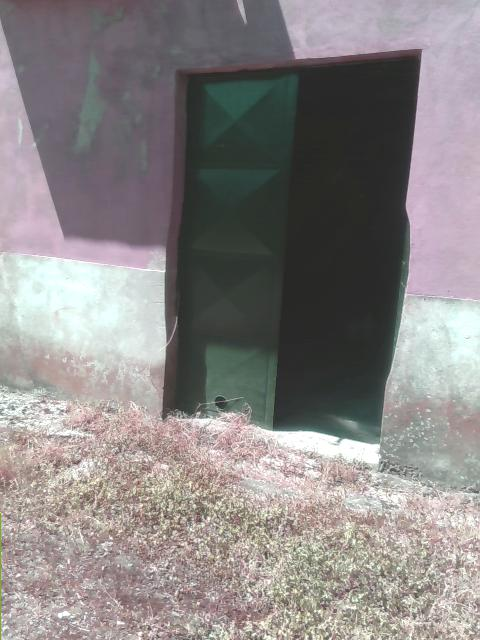open_door: (161, 42, 421, 468)
